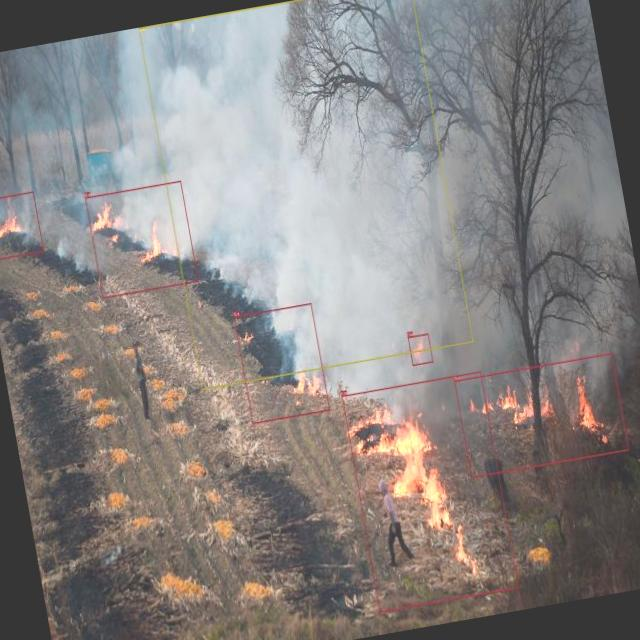fire: (342, 370, 518, 612), (454, 352, 629, 477), (84, 180, 198, 298), (233, 302, 330, 423), (0, 191, 44, 261), (407, 332, 433, 366)
smoke: (137, 0, 473, 388)
